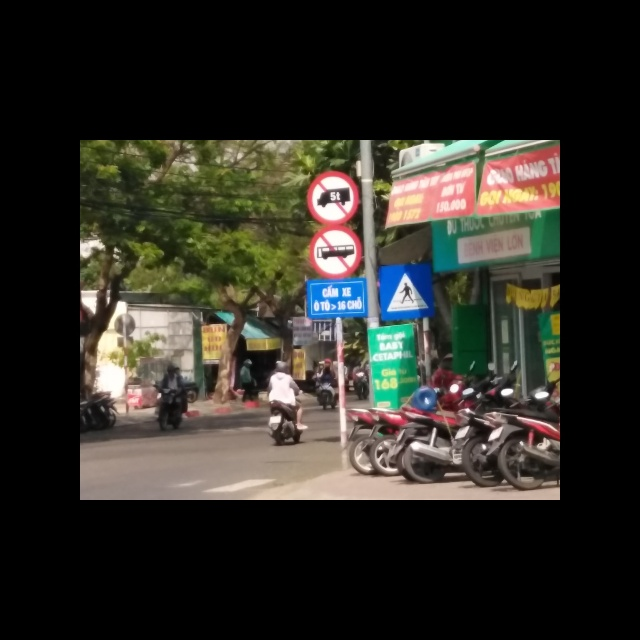Cấm xe tải: (306, 171, 359, 225)
Cấm xe xe khách: (309, 226, 361, 279)
Đường dành cho người đi bộ: (379, 264, 437, 321)
